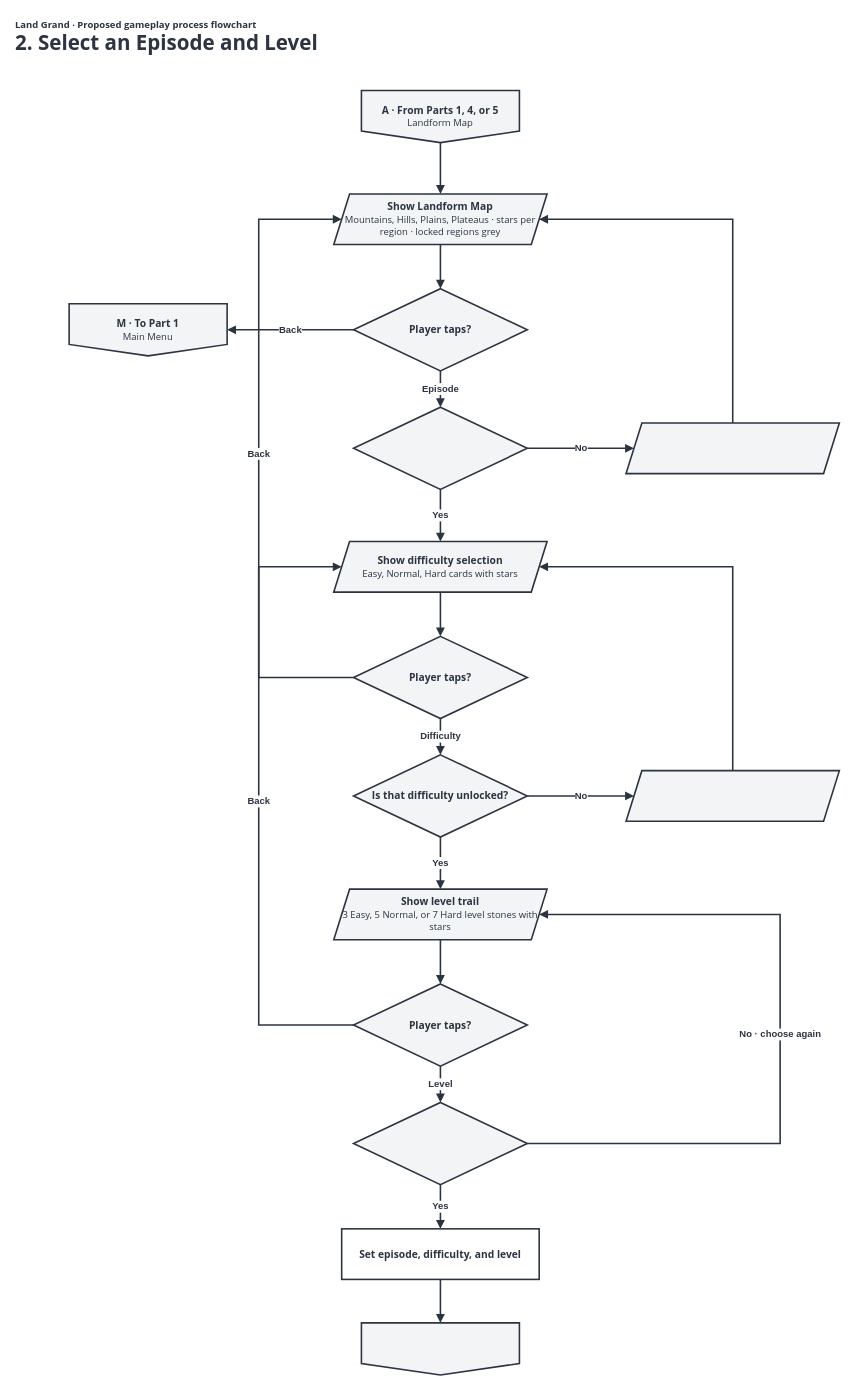
This 853x1389 diagram has some shape labels left out. Each missing label, with the centre of its shape:
B · To Part 3 Show the lesson: (x=440, y=1348)
Is that episode unlocked?: (x=440, y=448)
Is that level available?: (x=440, y=1143)
Show guide text e.g. “Finish Mountains first” · stay on the map: (x=732, y=448)
Show guide text “Clear all Easy levels” or “Clear all Normal levels”: (x=732, y=795)
